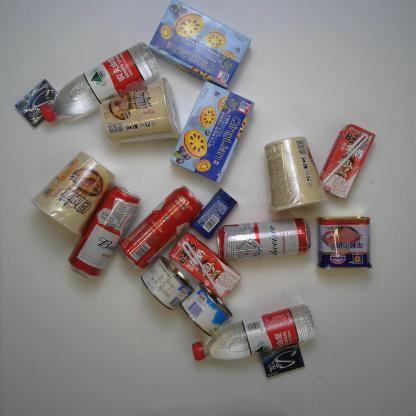Alcohol: (123, 189, 205, 269), (66, 187, 134, 281), (218, 218, 318, 260)
Canned Food: (312, 214, 379, 278), (178, 282, 233, 337), (137, 256, 187, 312)
Dessert: (141, 2, 262, 90), (174, 82, 258, 187)
Drink: (41, 43, 169, 132), (189, 307, 325, 360)
Gum: (12, 79, 60, 127), (257, 343, 309, 377)
Instant Noodles: (31, 150, 118, 237), (96, 78, 183, 146), (263, 136, 338, 214)
Milk: (169, 232, 242, 300), (317, 122, 380, 199)
Personal Hygiene: (191, 189, 241, 240)
